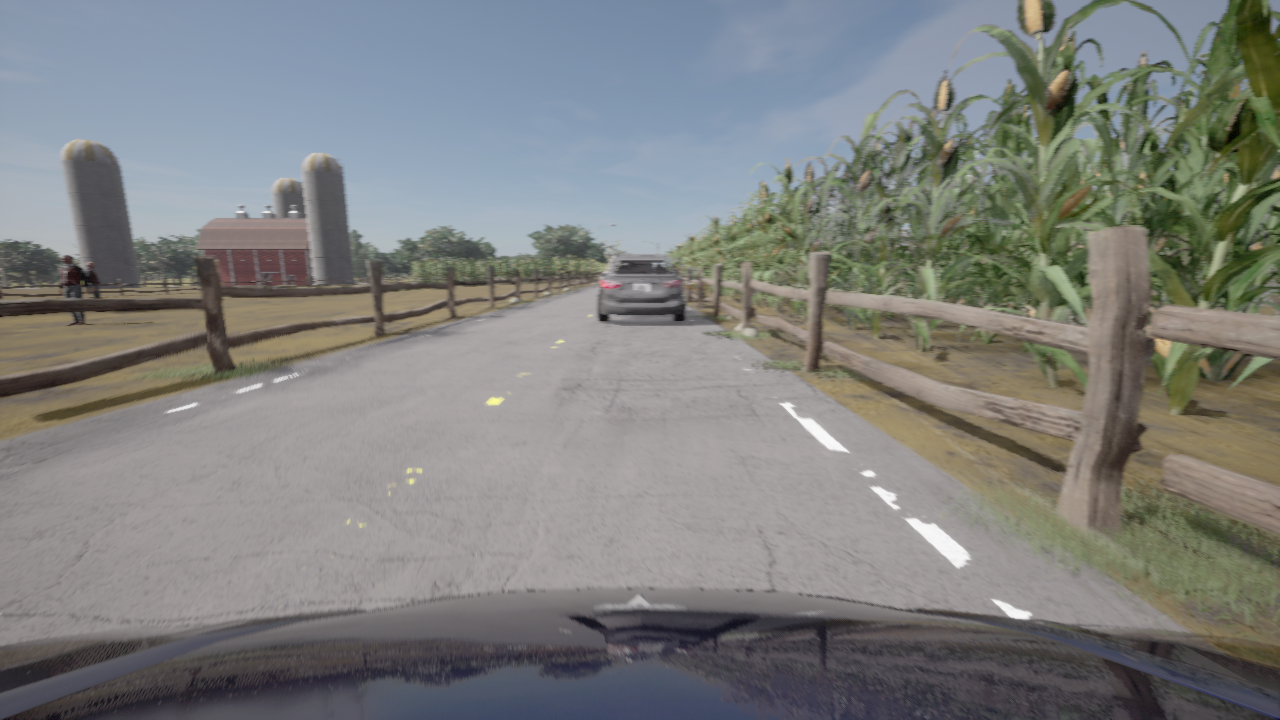cyclist: (0, 588, 1279, 719), (598, 255, 685, 321), (599, 272, 606, 287)
pedestrian: (58, 254, 90, 325), (85, 262, 105, 312)
